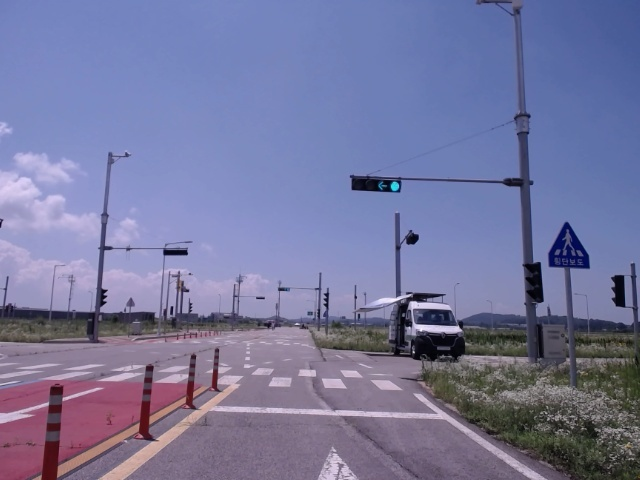all_green_4: (348, 174, 401, 193)
